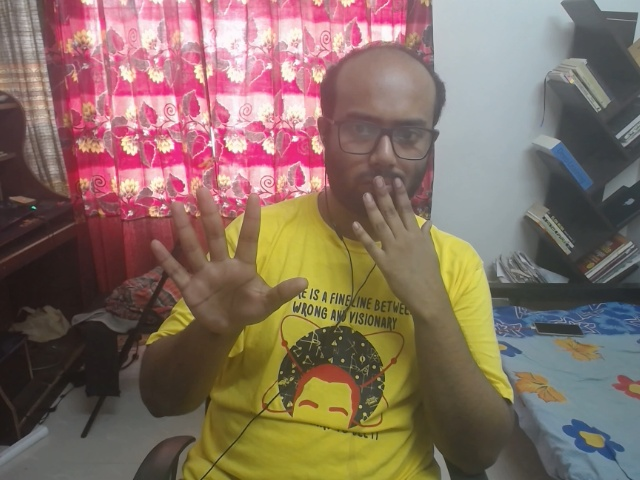five: (135, 179, 313, 343)
